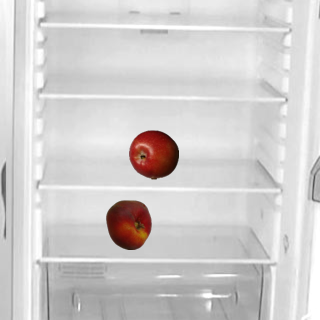Apple Braeburn: (128, 129, 178, 179)
Nectarine Flat: (103, 199, 153, 249)
